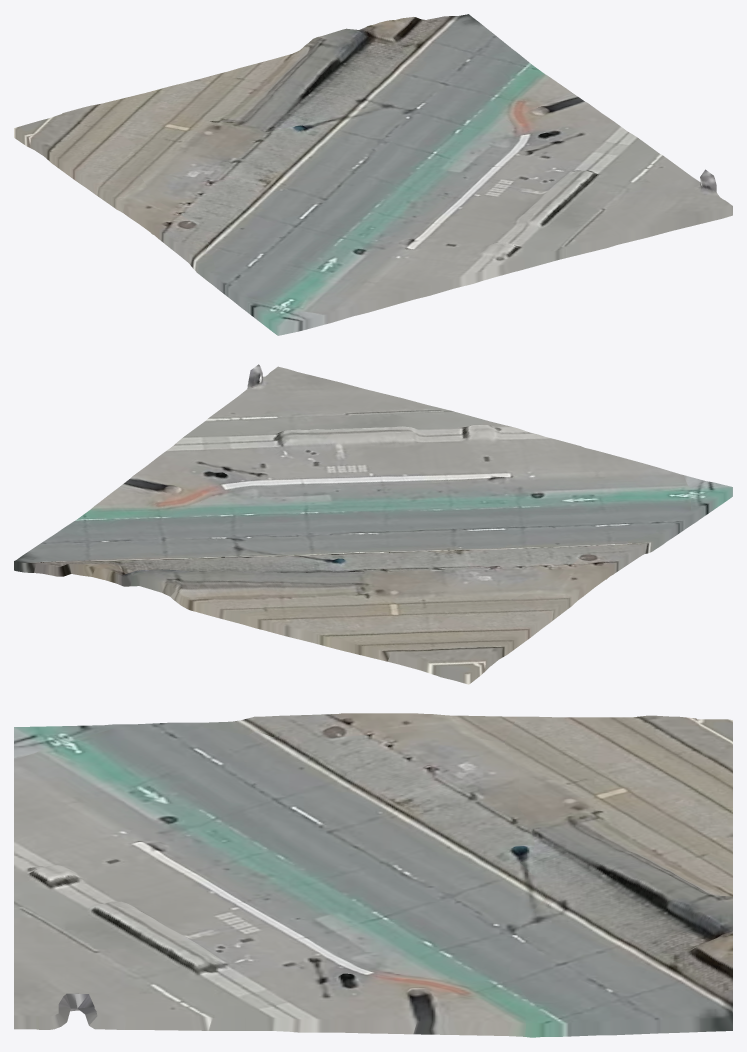
File: z20-167778-405205-h0-yup-uvflip-v3-world.glb
3 views of the same model, one above another, from view 1: azimuth 30°, elevation 25°; view 2: azimuth 150°, elevation 25°; view 3: azimuth 270°, elevation 25° (orthographic). The views are drawn at different scales.
Size of the model in its own units: 30.16 by 2.28 by 30.32.
1 material, 1 textured.
